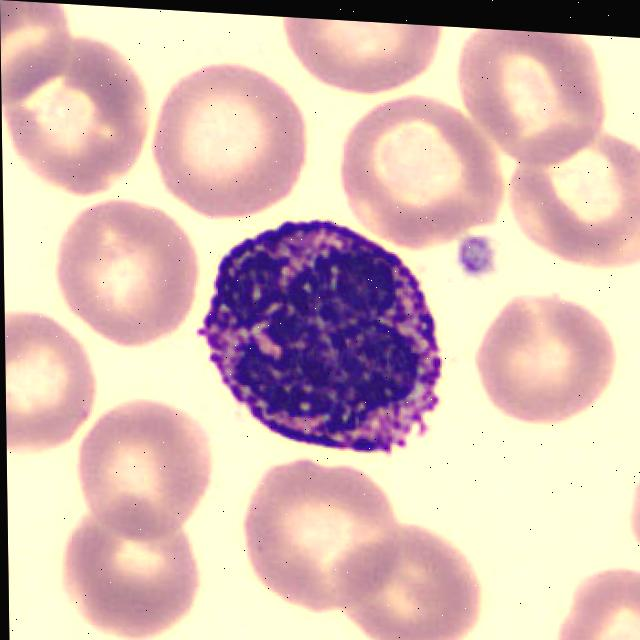basophil: (200, 221, 452, 461)
platelets: (448, 231, 498, 282)
rbc: (44, 186, 204, 362), (232, 456, 401, 621), (154, 62, 309, 229), (340, 91, 496, 254), (1, 35, 150, 201), (468, 284, 622, 437), (456, 27, 618, 171), (508, 118, 640, 284), (74, 398, 217, 546), (59, 495, 202, 640), (321, 523, 484, 640), (265, 16, 453, 100), (5, 308, 101, 463), (0, 0, 72, 113), (547, 561, 640, 640), (624, 460, 640, 578)
